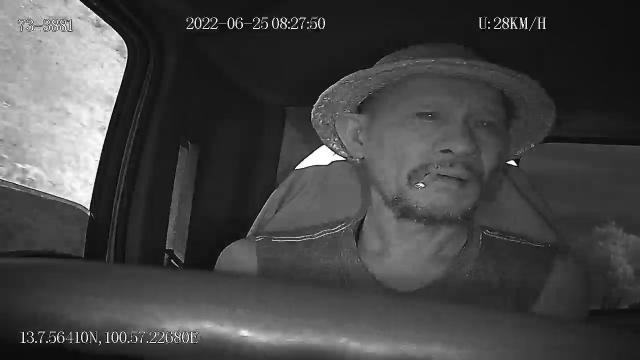SafeDriving: (407, 100, 446, 127), (466, 112, 499, 134)
Smoking: (414, 169, 440, 191)
